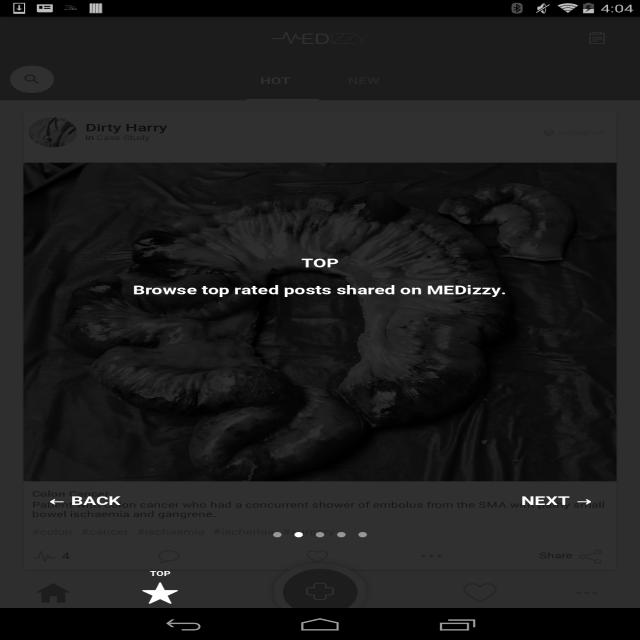Button: (34, 486, 134, 518), (508, 486, 606, 518)
ImageButton: (12, 64, 64, 96)
ImageView: (24, 163, 616, 481), (213, 555, 427, 628), (213, 578, 427, 628), (0, 578, 107, 608), (533, 578, 640, 608), (107, 578, 213, 608), (427, 578, 533, 608), (29, 118, 77, 148), (29, 596, 77, 626), (272, 32, 368, 44), (305, 582, 335, 601), (32, 549, 57, 564), (305, 549, 330, 564), (578, 549, 603, 564), (157, 549, 181, 564), (420, 549, 443, 563), (587, 31, 608, 45), (542, 128, 556, 136), (273, 532, 282, 537), (294, 532, 303, 537), (337, 532, 346, 537), (358, 532, 367, 537), (316, 532, 324, 537)
TextView: (32, 499, 608, 519), (126, 254, 513, 271), (126, 281, 513, 298), (126, 308, 513, 325), (32, 488, 608, 499), (85, 599, 247, 613), (97, 133, 171, 150), (86, 120, 168, 134), (133, 525, 209, 538), (107, 569, 213, 578), (209, 525, 278, 538), (278, 525, 339, 538), (77, 525, 133, 538), (28, 525, 77, 538), (332, 74, 379, 87), (260, 74, 306, 87), (557, 127, 606, 137), (539, 550, 573, 560), (85, 133, 96, 142), (62, 550, 70, 562)
